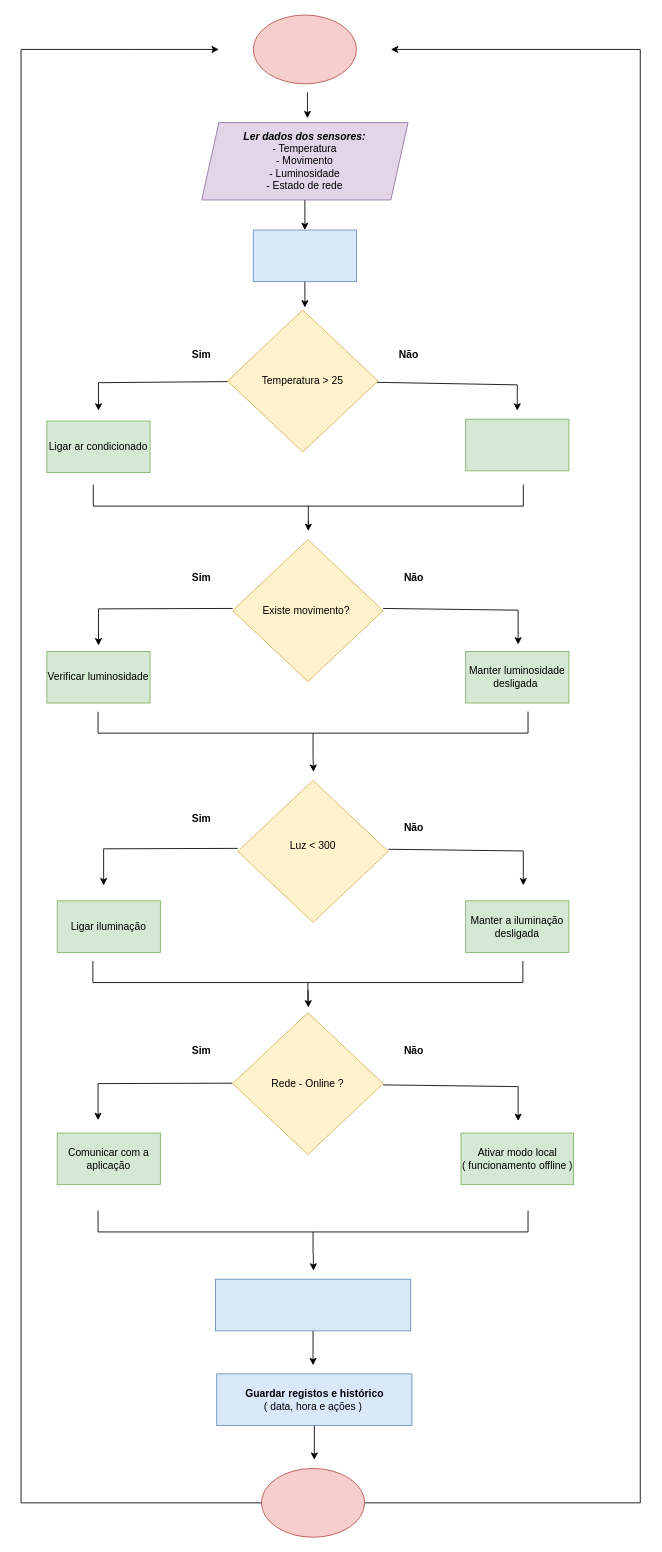
Some shapes in this 662 by 1552 pixel diagram are drawn without their labels. The centre of each missing label's shape, as x and y in pixels:
"Analisar os dados recebidos" belongs at pixel 304 255.
"Atualizar painel de motorização ( mostrar estado da casa )" belongs at pixel 313 1304.
"Fim" belongs at pixel 313 1502.
"Inicio" belongs at pixel 304 49.
"Manter ar condicionado desligado" belongs at pixel 517 444.
